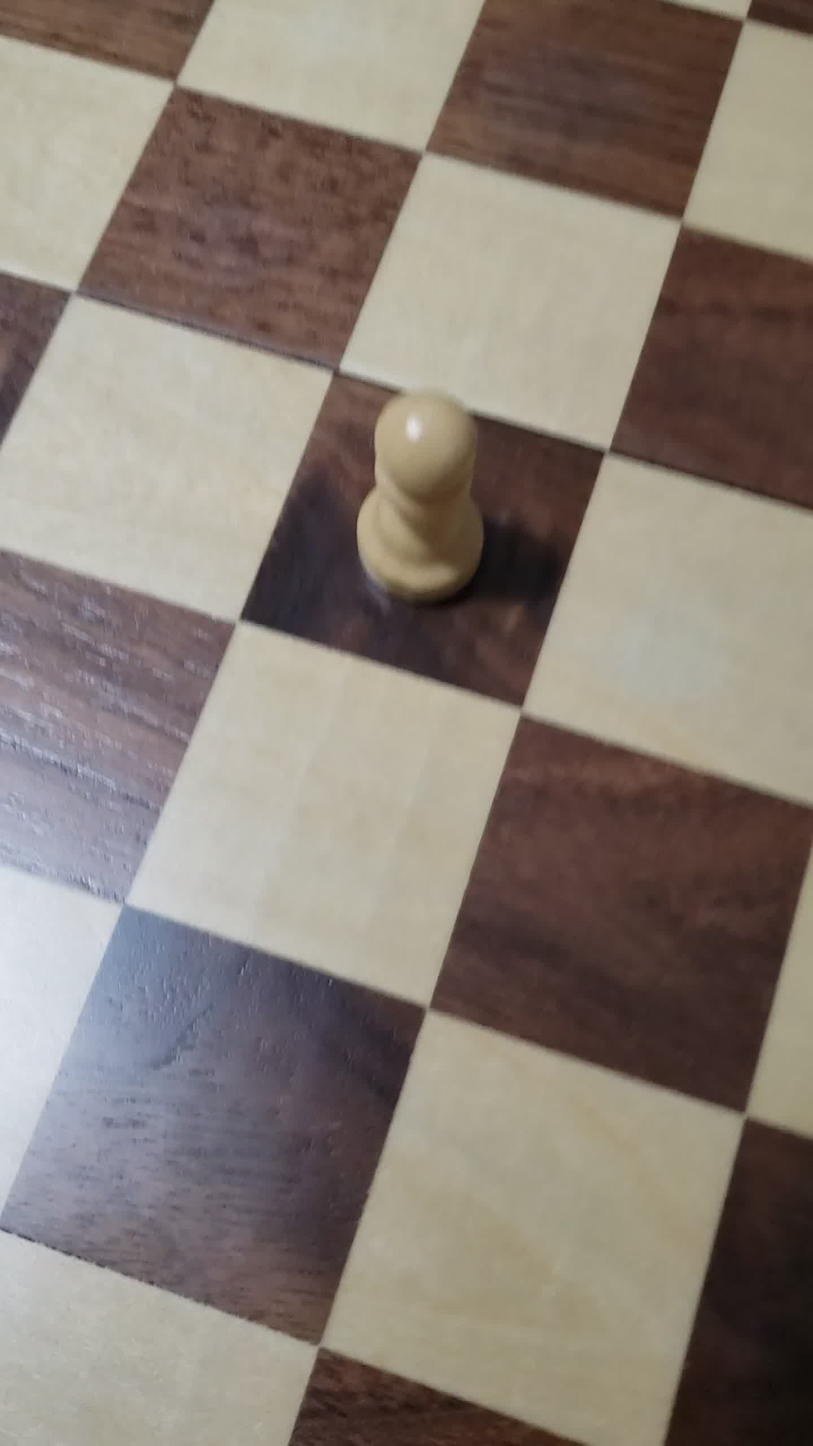white-pawn: (333, 339, 496, 655)
